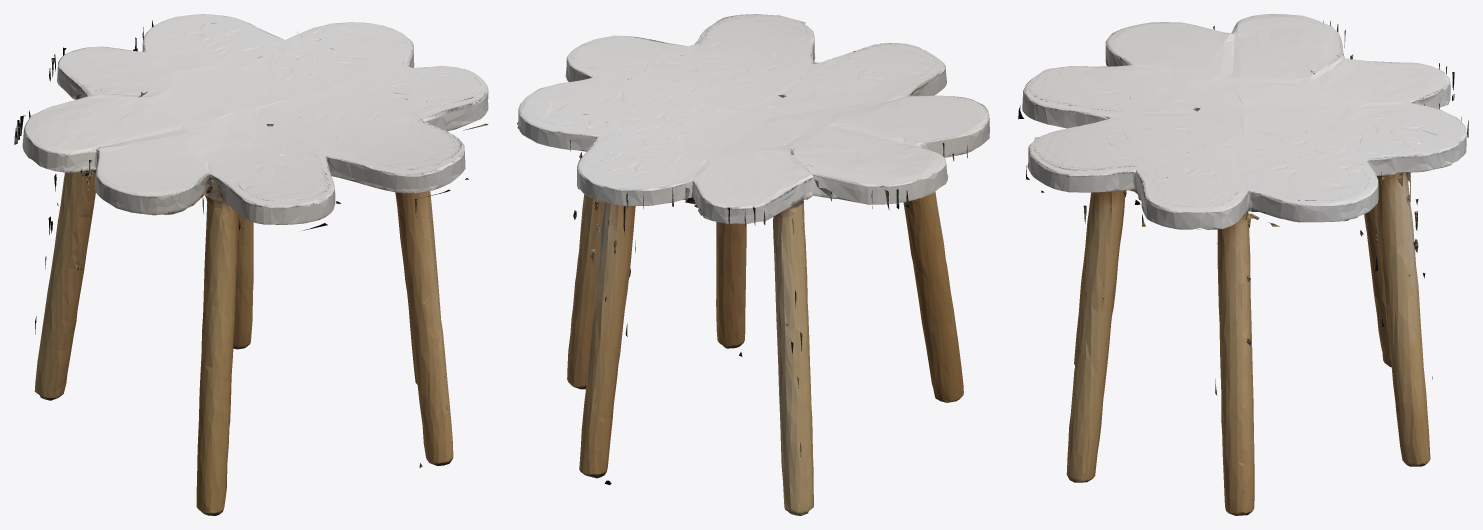
Rendered from preview.glb.
The picture shows the model from 3 angles, left to right: view 1: azimuth 30°, elevation 25°; view 2: azimuth 150°, elevation 25°; view 3: azimuth 270°, elevation 25°; orthographic projection.
Parts seen in each view (by area): view 1: geometry_0; view 2: geometry_0; view 3: geometry_0.
Part boxes in pixels (bbox=[...]): geometry_0: bbox=[14, 14, 488, 515]; geometry_0: bbox=[517, 14, 989, 515]; geometry_0: bbox=[1018, 14, 1468, 515].
Bounding box in the file's own units: 1 × 0.7814 × 0.9681.
1 material, 1 textured.
